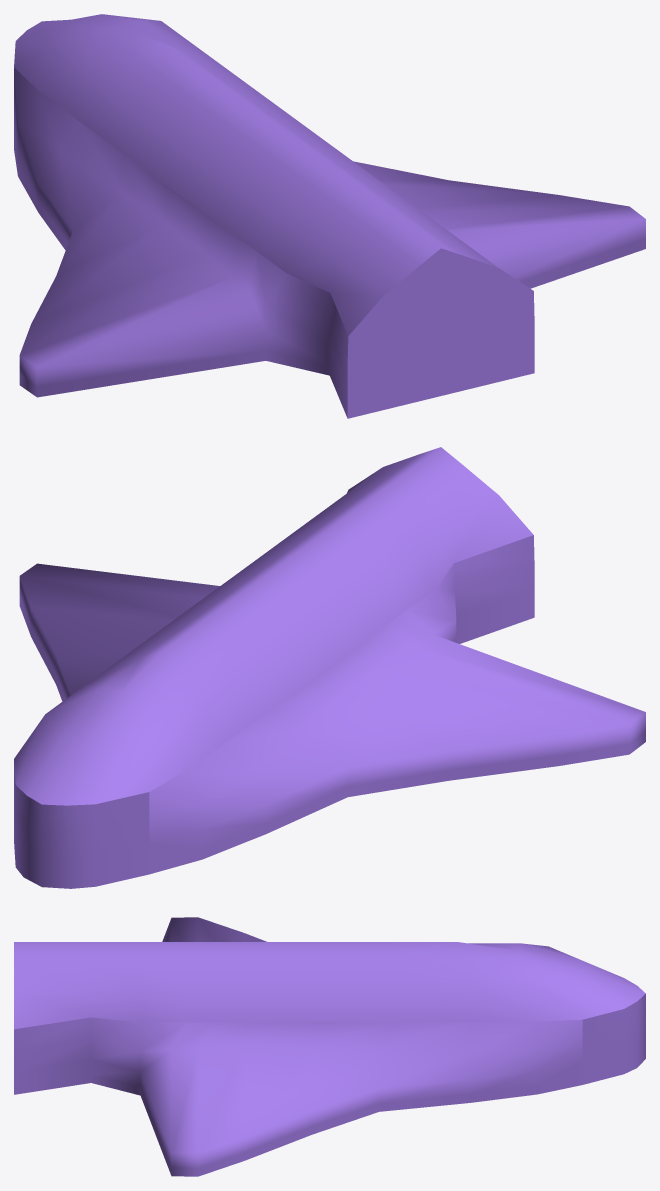
The model's file is OtherSpaceship_V3.FBX.
The picture shows the model from 3 angles, top to bottom: view 1: azimuth 30°, elevation 25°; view 2: azimuth 150°, elevation 25°; view 3: azimuth 270°, elevation 25°; orthographic projection. The views are drawn at different scales.
Visible parts, largest first — view 1: Box001; view 2: Box001; view 3: Box001.
Boxes of the visible parts, x1,y1,x2,y2 form: Box001: (14, 14, 645, 418); Box001: (14, 447, 645, 888); Box001: (14, 917, 645, 1176).
Size of the model in its own units: 1215 by 281 by 1378.
